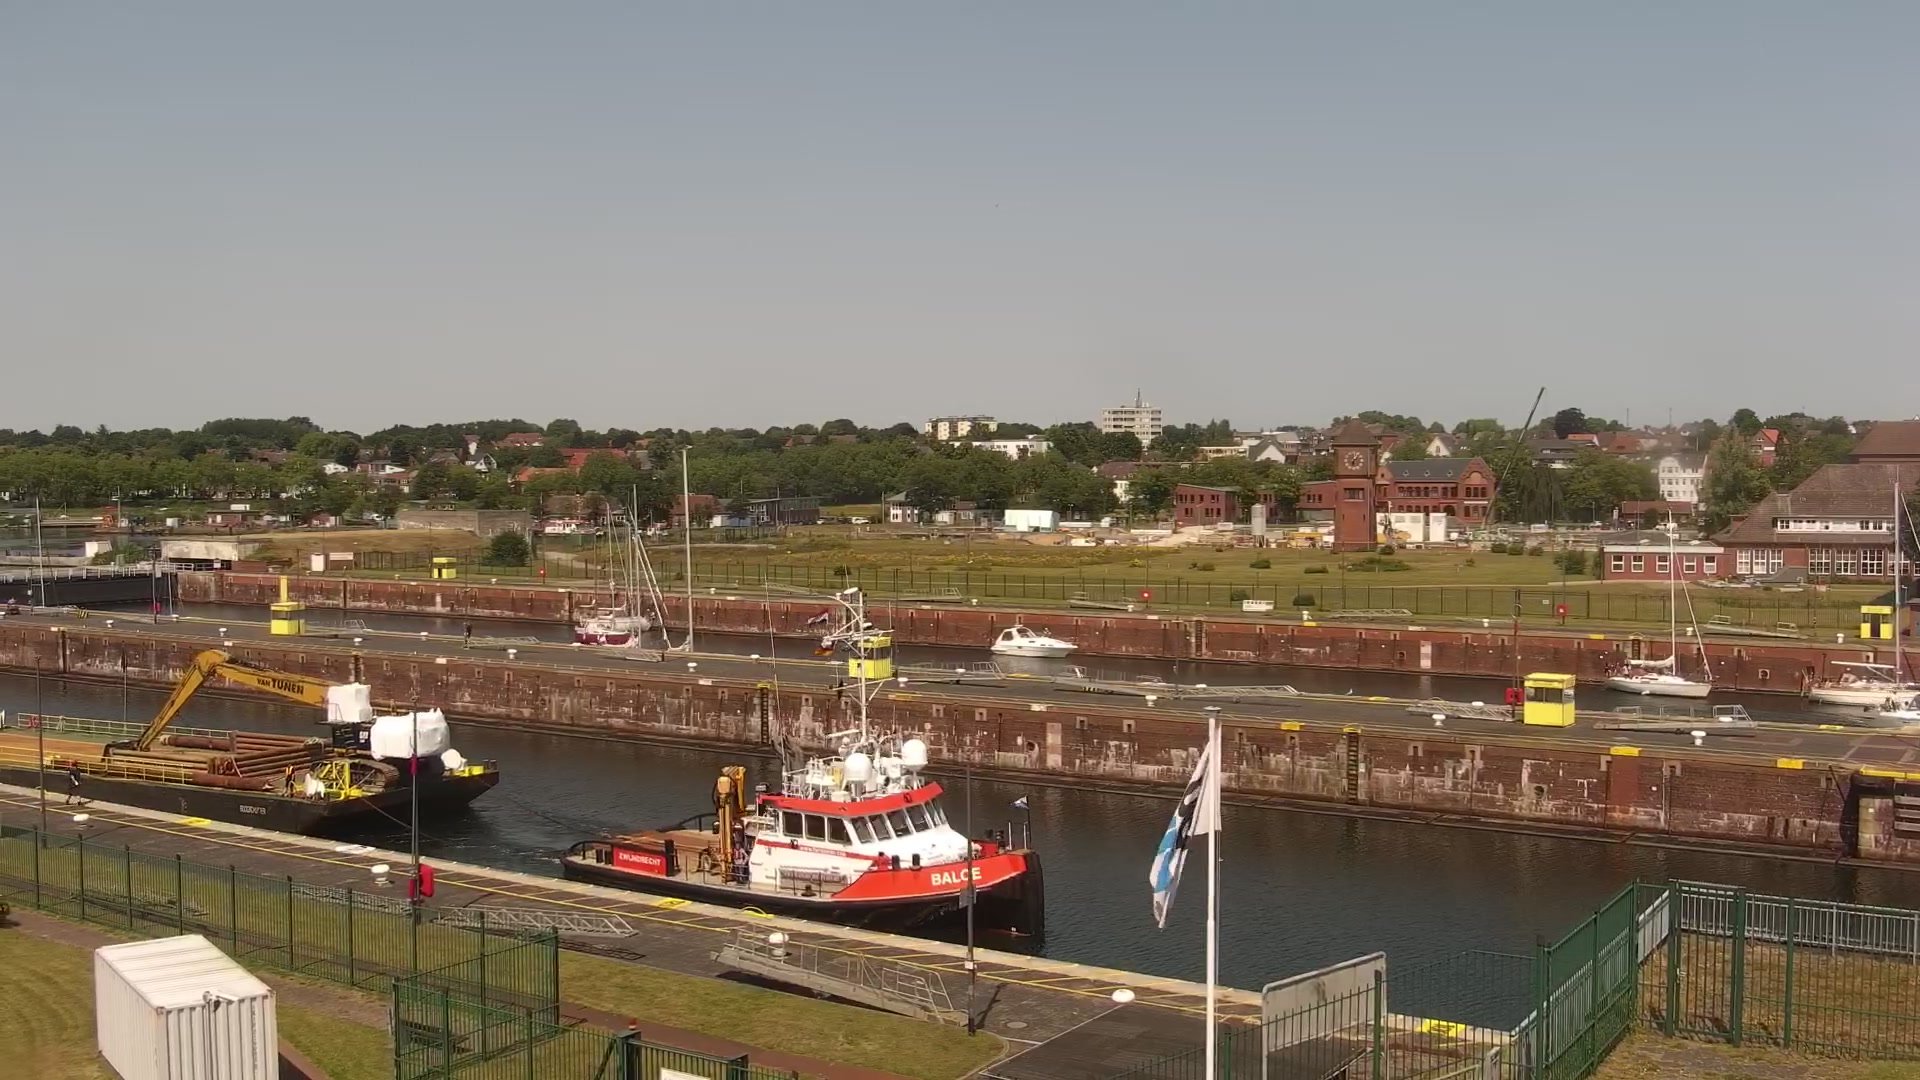human: (64, 759, 84, 806), (302, 767, 319, 800), (282, 762, 296, 797), (6, 594, 19, 614), (464, 619, 473, 638)
land: (850, 515, 870, 525)
sea: (558, 592, 1047, 942), (1, 644, 499, 832), (1797, 478, 1919, 705), (567, 446, 693, 639), (1602, 507, 1712, 698), (987, 622, 1079, 657)
